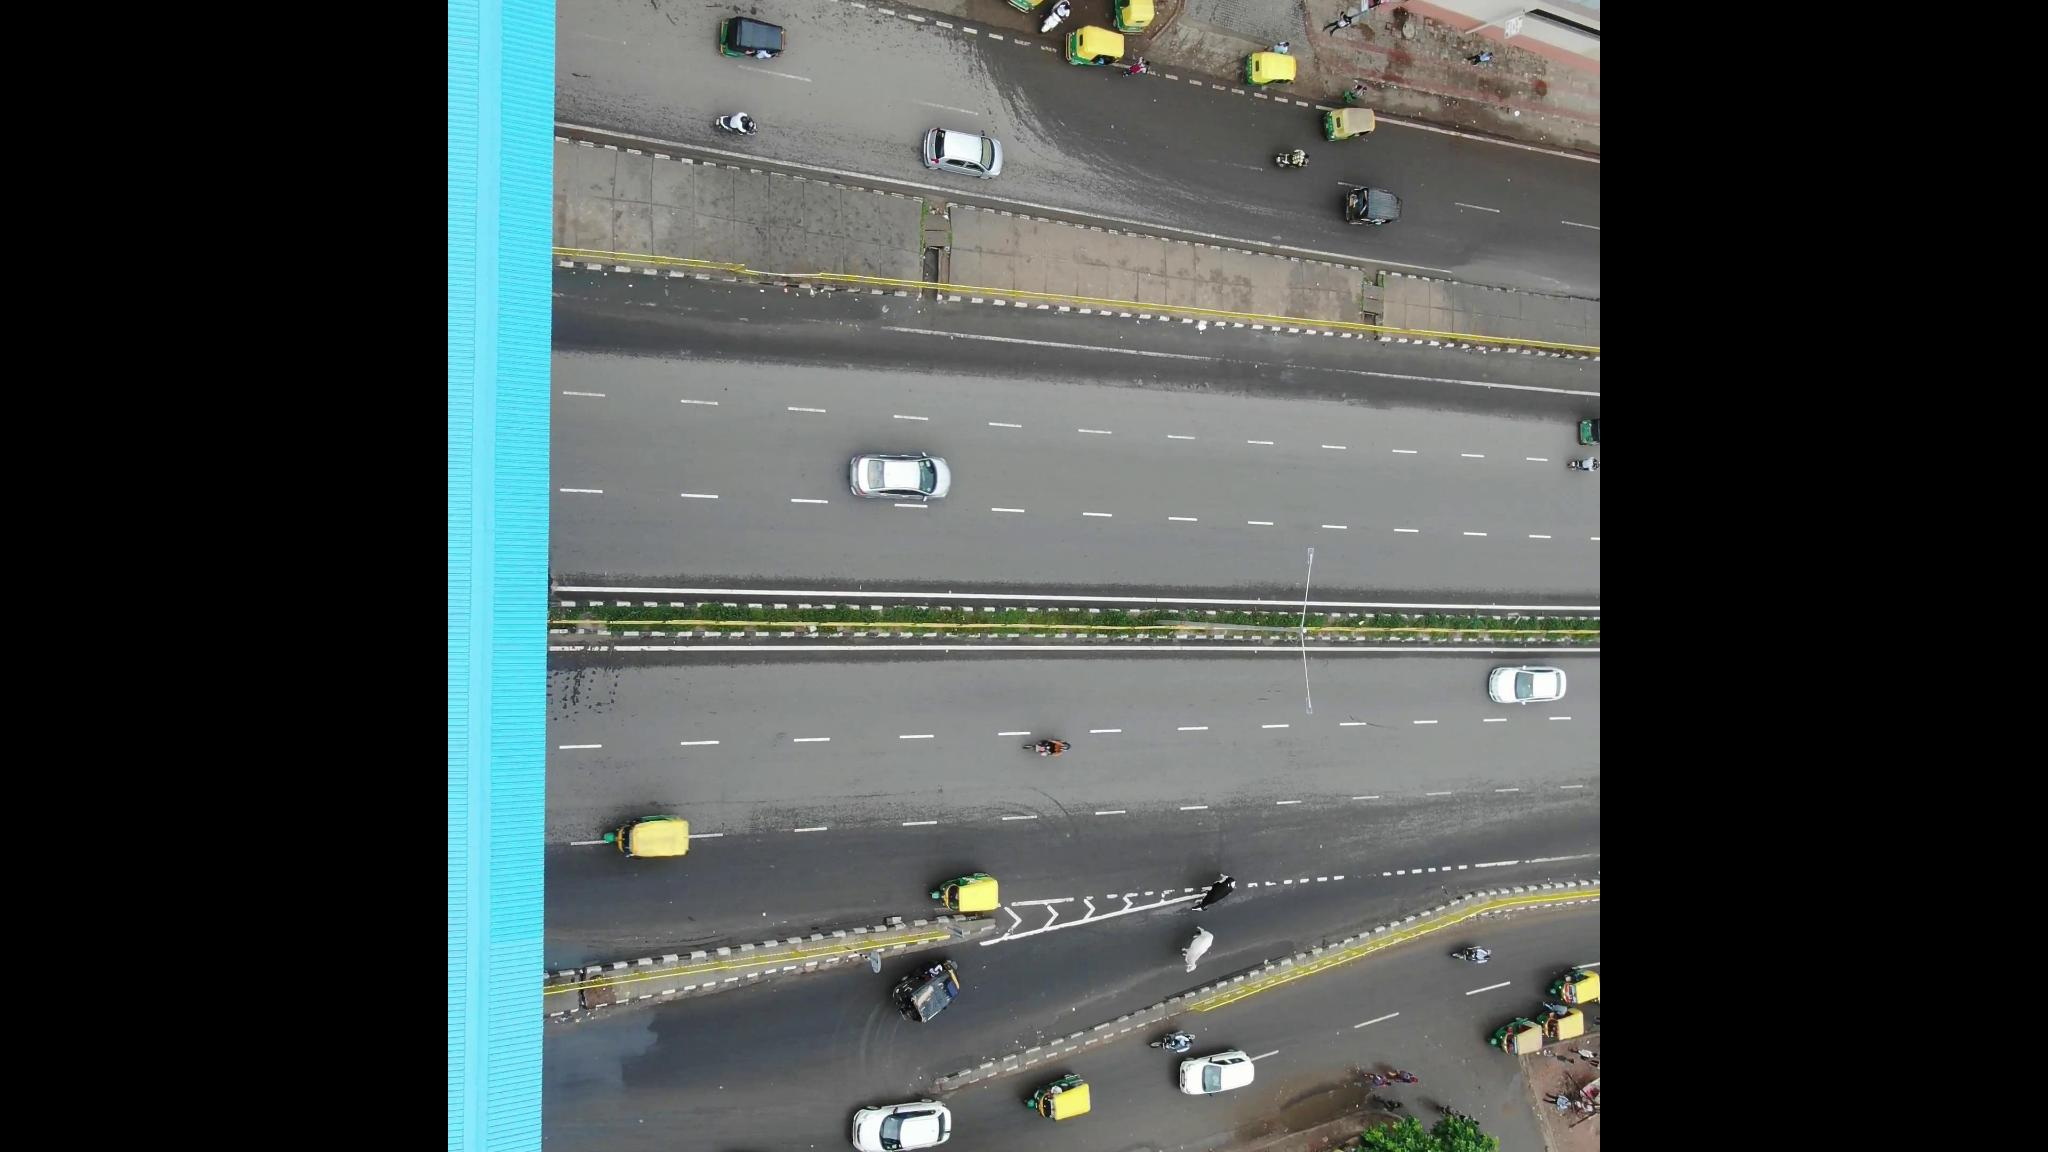Waterlogging: (587, 257, 875, 322), (1069, 941, 1272, 1025), (1253, 1082, 1366, 1129), (1056, 1132, 1156, 1152)
